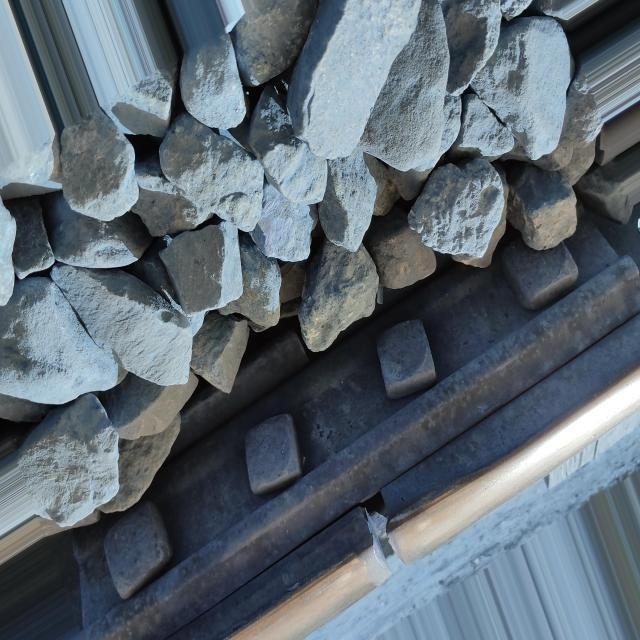Good Joint: (72, 216, 640, 638)
